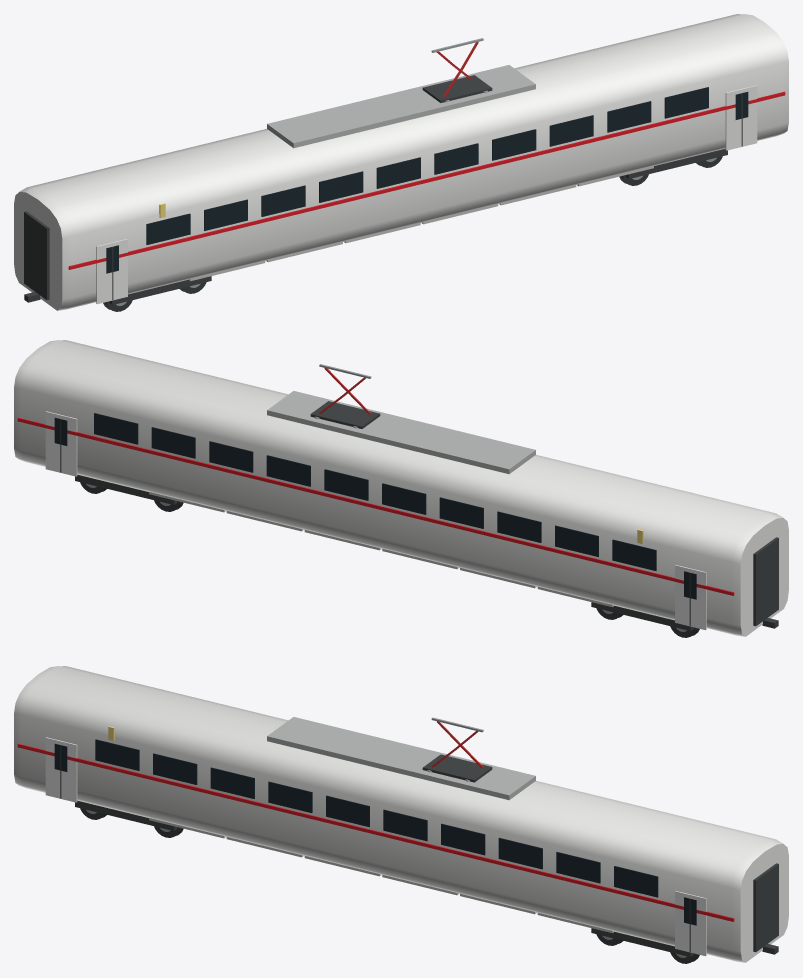
Rendered from ice3-br403-first-transformer-403-1.glb.
3 views of the same model, one above another, from view 1: azimuth 30°, elevation 25°; view 2: azimuth 150°, elevation 25°; view 3: azimuth 330°, elevation 25° (orthographic).
Parts seen in each view (by area): view 1: ice3_first_transformer_403_1_lofted_shell, first_transformer_403_1_transformer_roof_fairing, first_transformer_403_1_red_belt_-1, first_transformer_403_1_gangway_-1, first_transformer_403_1_1_door_-1, first_transformer_403_1_0_door_-1, first_transformer_403_1_pantograph_base, first_transformer_403_1_05_window_-1, first_transformer_403_1_02_window_-1, first_transformer_403_1_04_window_-1, first_transformer_403_1_06_window_-1, first_transformer_403_1_08_window_-1 (+7 smaller); view 2: ice3_first_transformer_403_1_lofted_shell, first_transformer_403_1_transformer_roof_fairing, first_transformer_403_1_red_belt_1, first_transformer_403_1_gangway_-1, first_transformer_403_1_1_door_1, first_transformer_403_1_0_door_1, first_transformer_403_1_pantograph_base, first_transformer_403_1_bogie_1, first_transformer_403_1_bogie_0, first_transformer_403_1_05_window_1, first_transformer_403_1_02_window_1, first_transformer_403_1_04_window_1 (+7 smaller); view 3: ice3_first_transformer_403_1_lofted_shell, first_transformer_403_1_transformer_roof_fairing, first_transformer_403_1_red_belt_-1, first_transformer_403_1_gangway_1, first_transformer_403_1_0_door_-1, first_transformer_403_1_1_door_-1, first_transformer_403_1_pantograph_base, first_transformer_403_1_00_window_-1, first_transformer_403_1_05_window_-1, first_transformer_403_1_07_window_-1, first_transformer_403_1_08_window_-1, first_transformer_403_1_01_window_-1 (+7 smaller).
Part boxes in pixels (x1=…): ice3_first_transformer_403_1_lofted_shell: x1=14, y1=14, x2=788, y2=310; first_transformer_403_1_transformer_roof_fairing: x1=267, y1=65, x2=535, y2=148; first_transformer_403_1_red_belt_-1: x1=68, y1=91, x2=785, y2=269; first_transformer_403_1_gangway_-1: x1=24, y1=211, x2=49, y2=300; first_transformer_403_1_1_door_-1: x1=725, y1=85, x2=757, y2=150; first_transformer_403_1_0_door_-1: x1=96, y1=239, x2=127, y2=304; first_transformer_403_1_pantograph_base: x1=422, y1=75, x2=492, y2=102; first_transformer_403_1_05_window_-1: x1=434, y1=143, x2=478, y2=174; first_transformer_403_1_02_window_-1: x1=261, y1=185, x2=305, y2=216; first_transformer_403_1_04_window_-1: x1=376, y1=157, x2=420, y2=188; first_transformer_403_1_06_window_-1: x1=492, y1=129, x2=536, y2=160; first_transformer_403_1_08_window_-1: x1=607, y1=101, x2=651, y2=132; ice3_first_transformer_403_1_lofted_shell: x1=14, y1=340, x2=788, y2=636; first_transformer_403_1_transformer_roof_fairing: x1=267, y1=391, x2=535, y2=474; first_transformer_403_1_red_belt_1: x1=17, y1=417, x2=734, y2=595; first_transformer_403_1_gangway_-1: x1=753, y1=537, x2=778, y2=626; first_transformer_403_1_1_door_1: x1=45, y1=411, x2=77, y2=476; first_transformer_403_1_0_door_1: x1=675, y1=565, x2=706, y2=630; first_transformer_403_1_pantograph_base: x1=310, y1=401, x2=380, y2=428; first_transformer_403_1_bogie_1: x1=75, y1=474, x2=183, y2=511; first_transformer_403_1_bogie_0: x1=591, y1=602, x2=699, y2=637; first_transformer_403_1_05_window_1: x1=324, y1=469, x2=368, y2=500; first_transformer_403_1_02_window_1: x1=497, y1=511, x2=541, y2=542; first_transformer_403_1_04_window_1: x1=382, y1=483, x2=426, y2=514; ice3_first_transformer_403_1_lofted_shell: x1=14, y1=666, x2=788, y2=962; first_transformer_403_1_transformer_roof_fairing: x1=267, y1=717, x2=535, y2=800; first_transformer_403_1_red_belt_-1: x1=17, y1=743, x2=734, y2=921; first_transformer_403_1_gangway_1: x1=753, y1=863, x2=778, y2=952; first_transformer_403_1_0_door_-1: x1=45, y1=737, x2=77, y2=802; first_transformer_403_1_1_door_-1: x1=675, y1=891, x2=706, y2=956; first_transformer_403_1_pantograph_base: x1=422, y1=754, x2=492, y2=782; first_transformer_403_1_00_window_-1: x1=95, y1=739, x2=139, y2=770; first_transformer_403_1_05_window_-1: x1=383, y1=809, x2=427, y2=841; first_transformer_403_1_07_window_-1: x1=498, y1=837, x2=542, y2=869; first_transformer_403_1_08_window_-1: x1=556, y1=852, x2=600, y2=883; first_transformer_403_1_01_window_-1: x1=153, y1=753, x2=197, y2=784.
Size of the model in its own units: 25.4 by 5.56 by 3.05.
